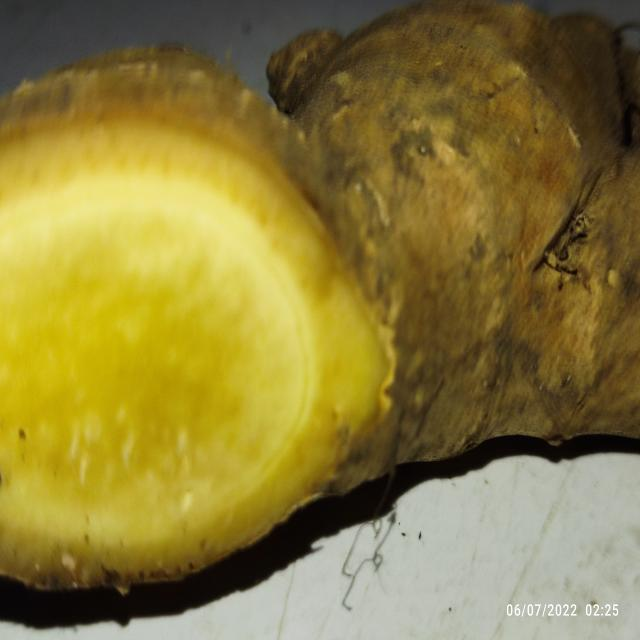ginger: (8, 6, 640, 572)
